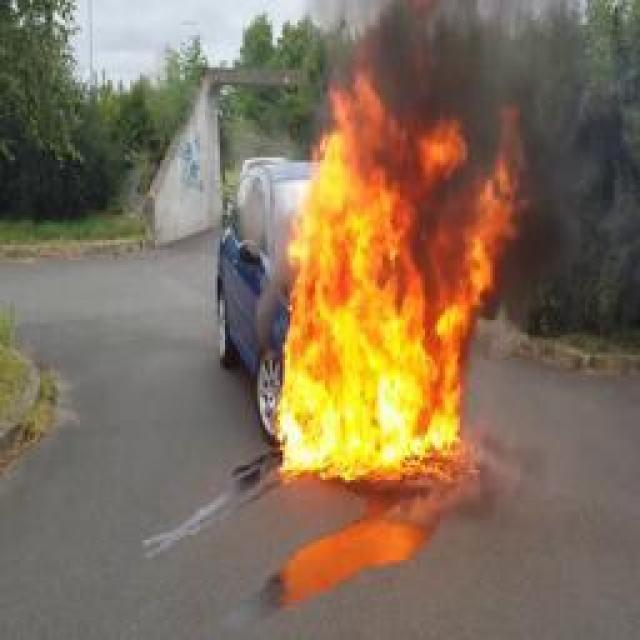Fire: (281, 66, 521, 476)
